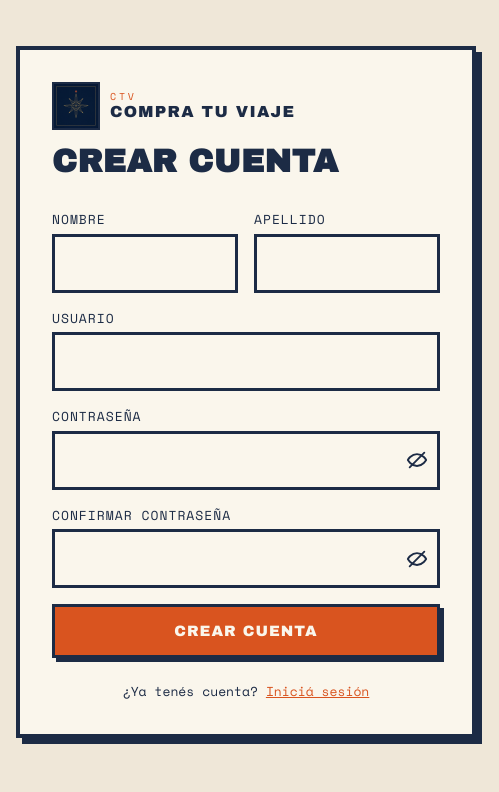
Register page › 07 - marks invalid fields with aria-invalid and an alert role on the error message
The image size is (499, 792).
Step 1. Click the button "Crear cuenta" → (246, 631), box [52,604,440,658]
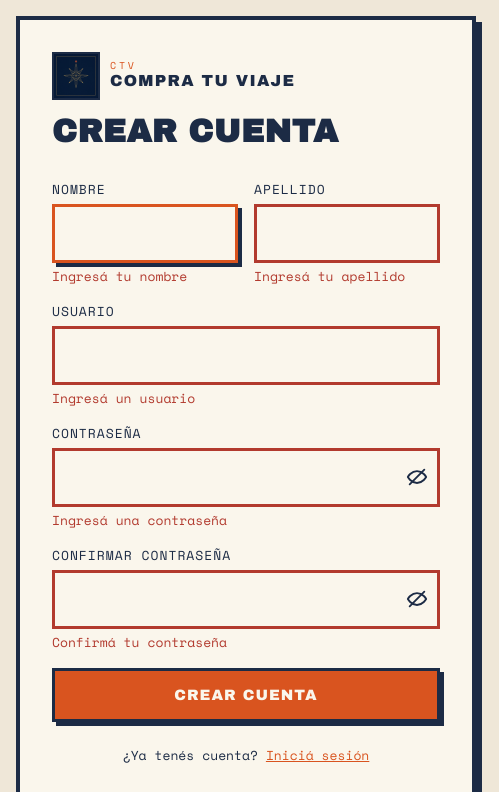
Expected: the message "Ingresá tu nombre" is shown, [52,266,187,286]
